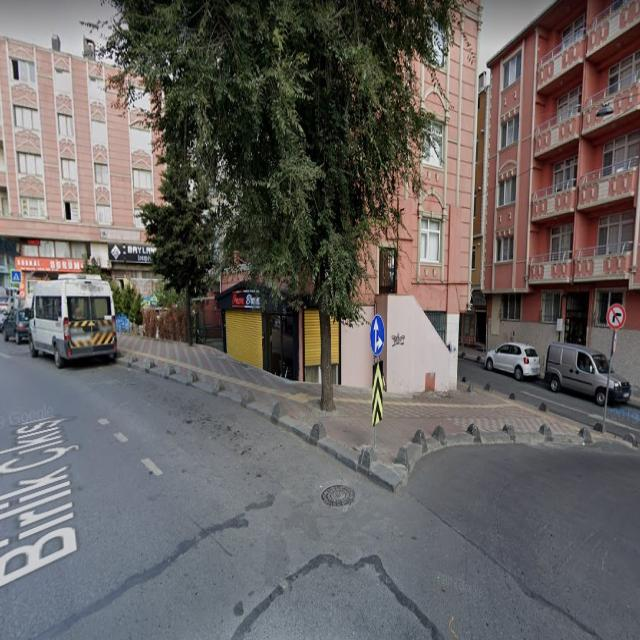ilerisag: (370, 312, 385, 353)
sagadonulmez: (605, 301, 625, 331)
